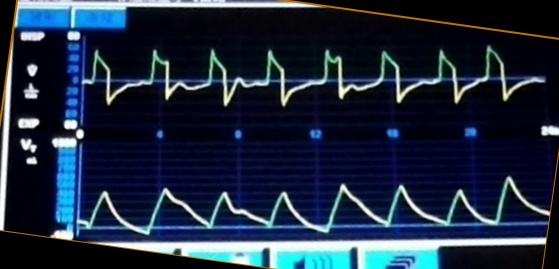Premature_cycling Flow: (87, 46, 545, 123)
Premature_cycling Volume: (81, 175, 546, 238)
